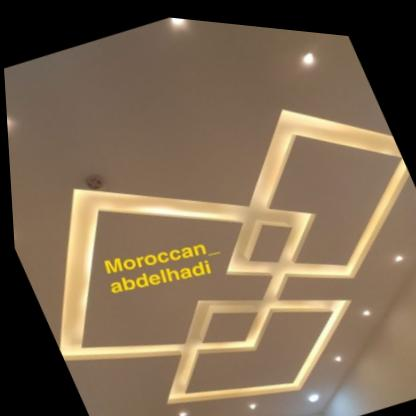Gypsum Board: (1, 30, 416, 416)
